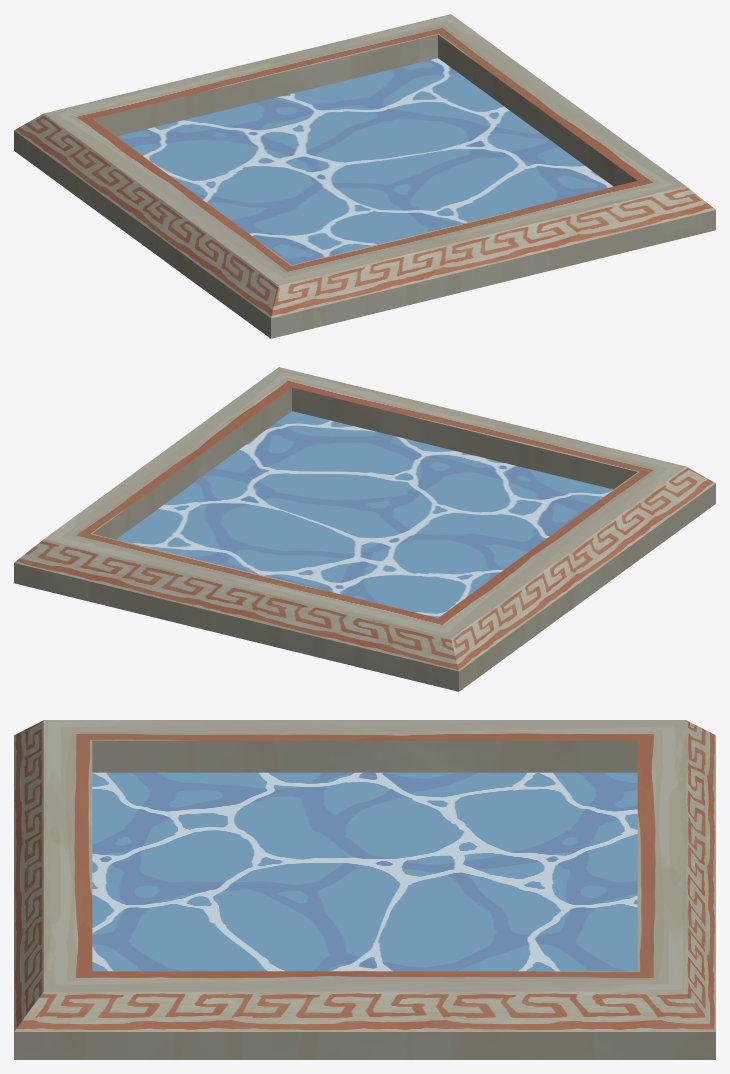
Rendered from block_01.fbx.
3 views of the same model, one above another, from view 1: azimuth 30°, elevation 25°; view 2: azimuth 150°, elevation 25°; view 3: azimuth 270°, elevation 25° (orthographic). The views are drawn at different scales.
Parts seen in each view (by area): view 1: block_01; view 2: block_01; view 3: block_01.
Part boxes in pixels (box(x1,y1,x2,y2)): block_01: box(14, 14, 715, 338); block_01: box(14, 367, 715, 691); block_01: box(14, 720, 715, 1059).
Size of the model in its own units: 3 by 0.2621 by 3.
Materials: 3 (3 with a texture image).
